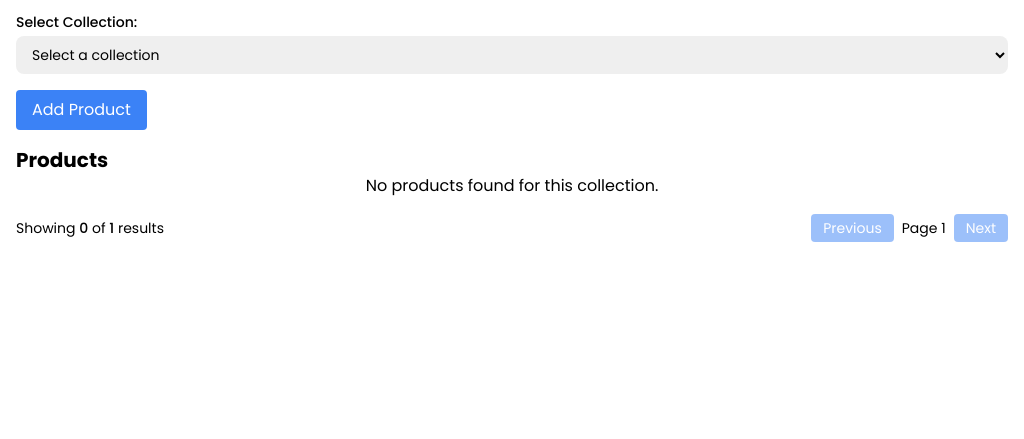
Scenario: ViewProducts › handles product deletion correctly
The image size is (1024, 439).
Select "Collection 1" in the dropdown labelled "Select Collection:": coordinates (512, 55) x1=16 y1=36 x2=1008 y2=74
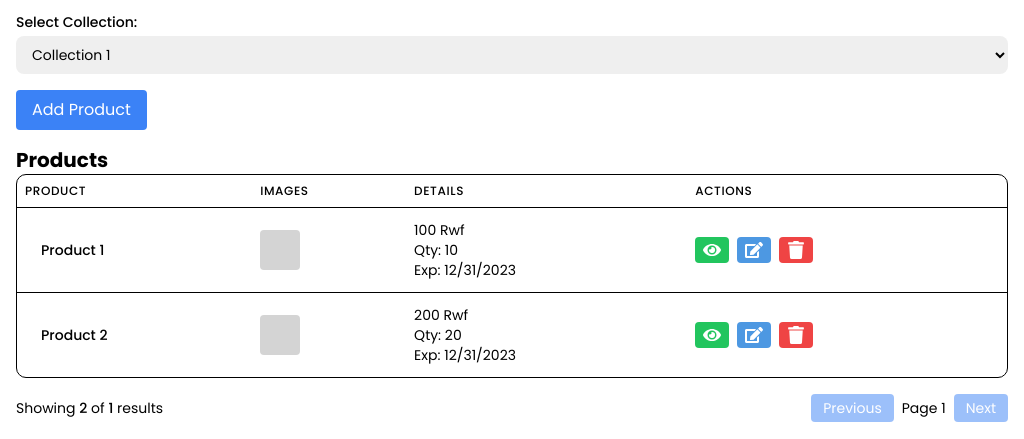
Check: the text "Product 1" is shown, box x1=41 y1=240 x2=104 y2=260
Check: the text "Product 2" is shown, box x1=41 y1=325 x2=108 y2=345
Check: the number of buttons named "delete" is 2
Click the button named "delete" in the row of "Product 1": coordinates (796, 250) x1=779 y1=237 x2=813 y2=263
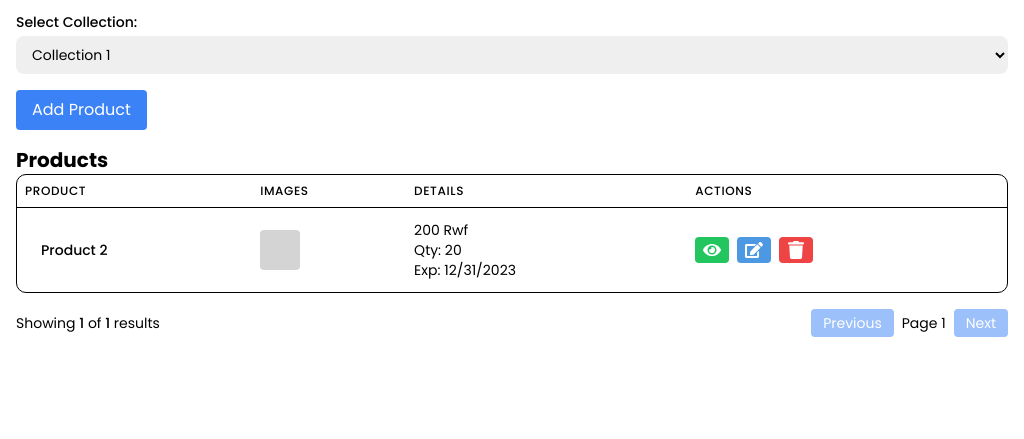
Check: the text "Product 2" is shown, box x1=41 y1=240 x2=108 y2=260
Check: the text "Product 1" is gone
